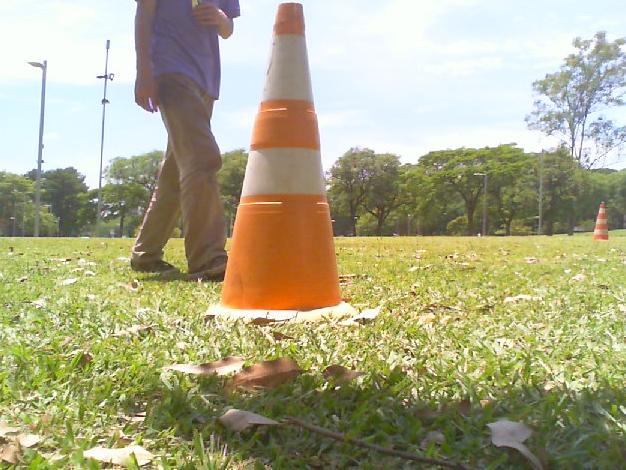0 cone: (204, 3, 359, 326), (593, 202, 609, 242)
